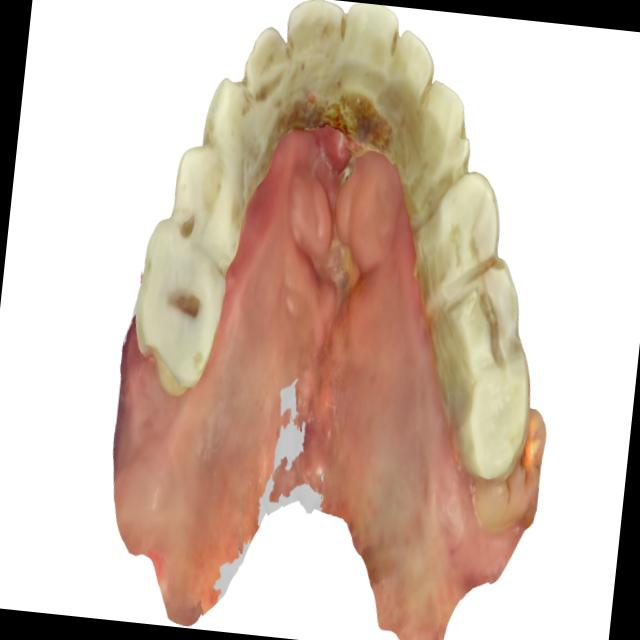tooth: (123, 209, 239, 410), (398, 156, 513, 330), (397, 53, 484, 253), (425, 243, 533, 398), (442, 343, 546, 500), (158, 126, 259, 281), (192, 60, 288, 208), (329, 1, 405, 176), (271, 0, 354, 146), (377, 9, 443, 191), (231, 15, 307, 154), (456, 449, 543, 542)
